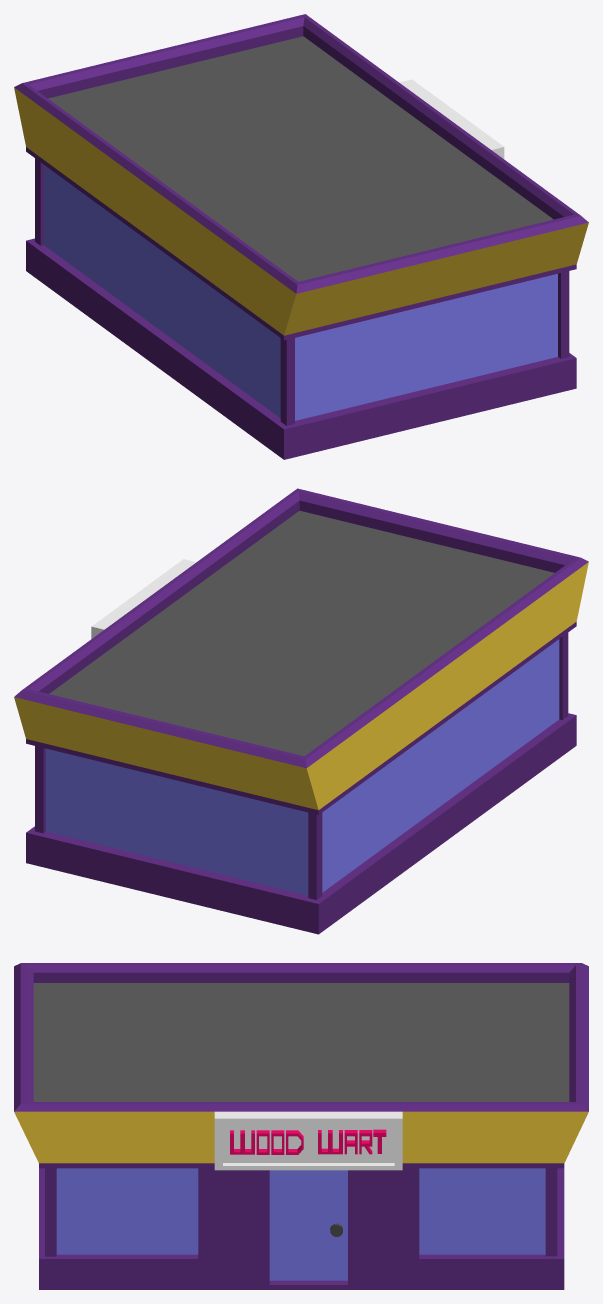
File: Wood Wart.FBX
3 views of the same model, one above another, from view 1: azimuth 30°, elevation 25°; view 2: azimuth 150°, elevation 25°; view 3: azimuth 270°, elevation 25° (orthographic).
Visible parts, largest first — view 1: Wood Wart; view 2: Wood Wart; view 3: Wood Wart.
Part boxes in pixels (x1,y1,x2,y2): Wood Wart: (14, 14, 588, 459); Wood Wart: (14, 488, 588, 934); Wood Wart: (14, 963, 588, 1289).
Bounding box in the file's own units: 289 × 162 × 461.
1 material, 1 textured.
